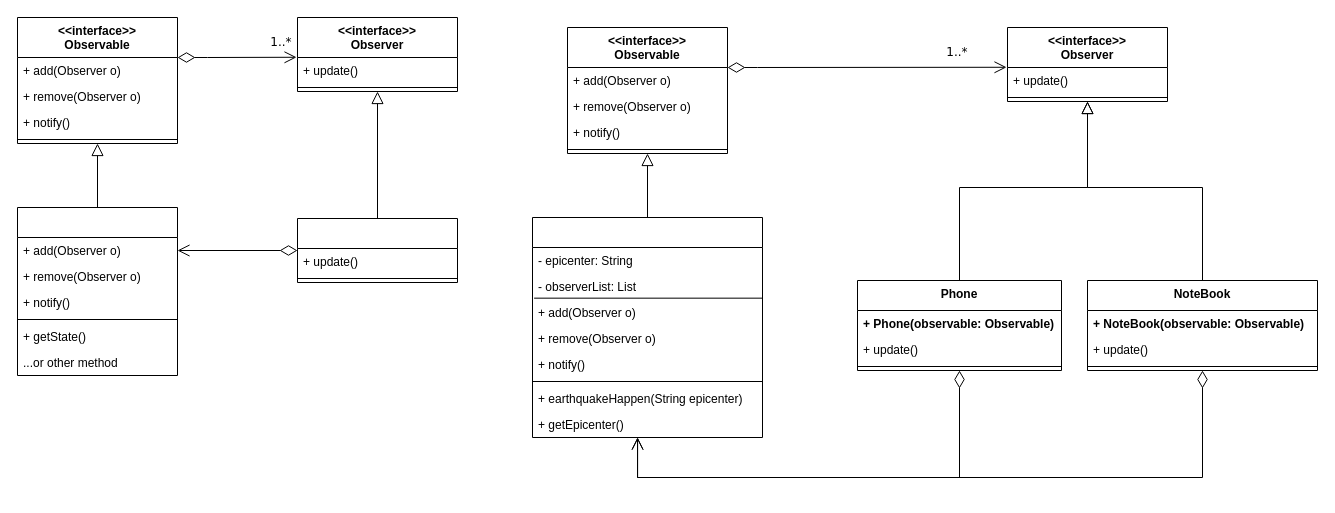
This 1335x513 diagram has some shape labels left out. Here are the shapes that lost their labels. From the top down, the box of each, then its label:
(296, 218, 458, 282): Concrete Observer
(16, 206, 178, 376): Concrete Observable
(532, 216, 762, 438): EarthquakeObservable
